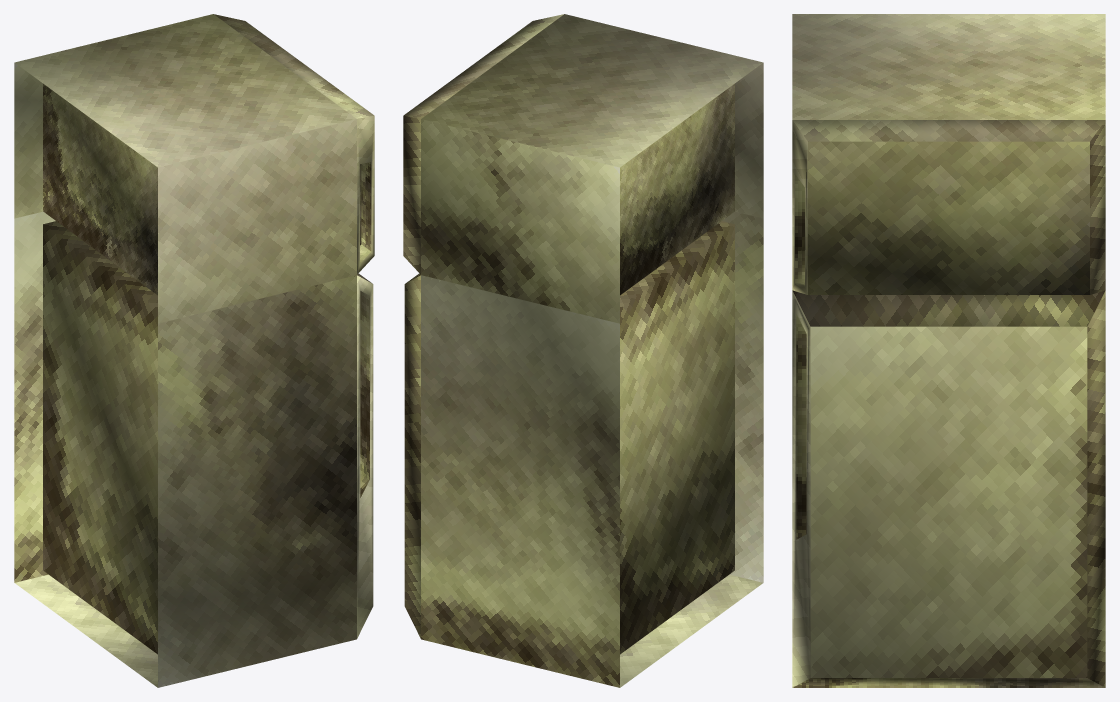
File: Fridge.glb
The picture shows the model from 3 angles, left to right: view 1: azimuth 30°, elevation 25°; view 2: azimuth 150°, elevation 25°; view 3: azimuth 270°, elevation 25°; orthographic projection. The views are drawn at different scales.
Parts seen in each view (by area): view 1: Fridge, Fridge.002, Fridge.001; view 2: Fridge, Fridge.002, Fridge.001; view 3: Fridge.002, Fridge.001, Fridge.
Boxes of the visible parts, <box> form: Fridge: <box>14,14,356,687</box>; Fridge.002: <box>357,273,373,638</box>; Fridge.001: <box>214,14,374,274</box>; Fridge: <box>421,14,763,687</box>; Fridge.002: <box>404,273,420,638</box>; Fridge.001: <box>403,14,563,274</box>; Fridge.002: <box>792,290,1105,687</box>; Fridge.001: <box>792,120,1105,294</box>; Fridge: <box>792,14,1105,119</box>.
Size of the model in its own units: 0.9 by 2 by 1.
Materials: 1 (1 with a texture image).
